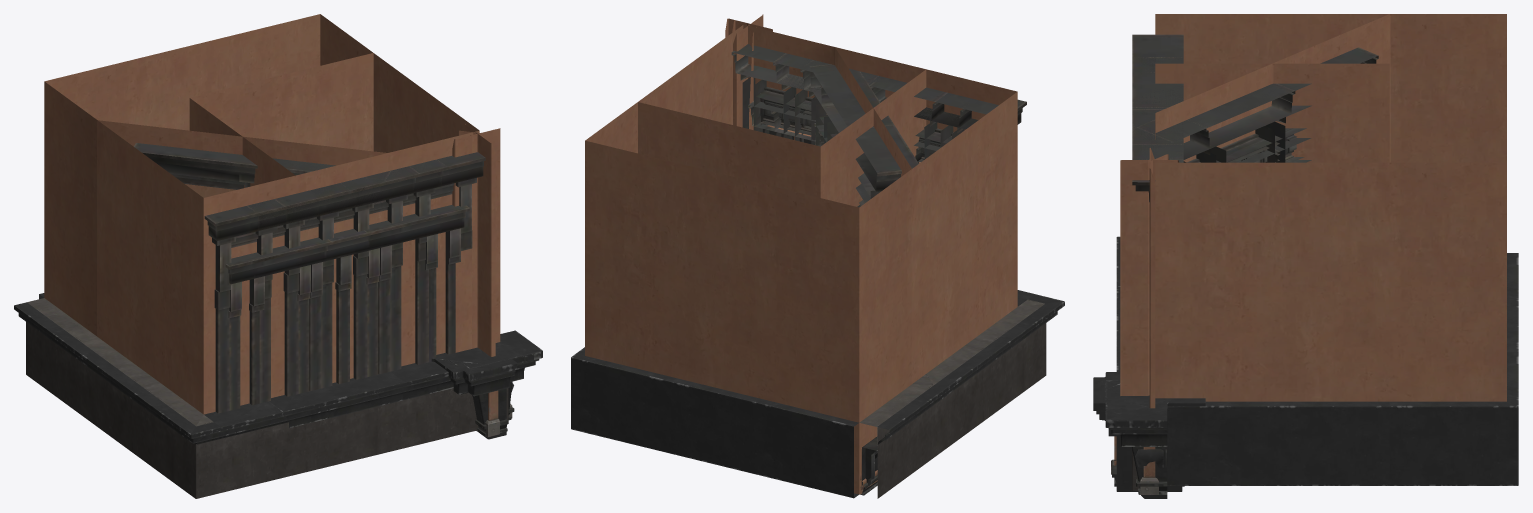
File: flats_kit_lod1.glb
The picture shows the model from 3 angles, left to right: view 1: azimuth 30°, elevation 25°; view 2: azimuth 150°, elevation 25°; view 3: azimuth 270°, elevation 25°; orthographic projection. The views are drawn at different scales.
Visible parts, largest first — view 1: wall_standard_corner_large_01, base_corner_large_01, wall_standard_corner_large_02, wall_door_angled_large_01, wall_standard_corner_small_02, wall_standard_angled_large_01, door_centered_small_01, door_centered_large_01, wall_pier_corner_02, crown_standard_corner_large_01, window_centered_large_02, door_window_small_04 (+38 smaller); view 2: wall_standard_corner_large_02, wall_standard_corner_large_01, crown_standard_corner_large_02, wall_door_angled_large_01, base_corner_large_01, wall_standard_corner_small_02, crown_standard_corner_large_01, wall_standard_angled_large_01, door_angled_large_01, wall_door_angled_small_01, door_centered_large_01, door_angled_small_01 (+17 smaller); view 3: wall_standard_corner_small_02, crown_standard_corner_large_02, wall_standard_corner_large_02, wall_standard_corner_large_01, wall_standard_corner_small_01, wall_pier_corner_02, door_angled_large_01, door_angled_small_01, crown_pier_angled_01, door_offset_small_04, wall_window_angled_large_01, wall_door_angled_large_01 (+11 smaller).
Part boxes in pixels (box(x1,y1,x2,y2)): wall_standard_corner_large_01: box(97, 120, 295, 414); base_corner_large_01: box(26, 299, 476, 498); wall_standard_corner_large_02: box(45, 14, 479, 152); wall_door_angled_large_01: box(44, 81, 385, 335); wall_standard_corner_small_02: box(190, 53, 373, 151); wall_standard_angled_large_01: box(44, 82, 347, 335); door_centered_small_01: box(274, 166, 419, 396); door_centered_large_01: box(247, 159, 447, 403); wall_pier_corner_02: box(452, 134, 495, 356); crown_standard_corner_large_01: box(14, 302, 448, 444); window_centered_large_02: box(249, 214, 446, 405); door_window_small_04: box(204, 183, 469, 412); wall_standard_corner_large_02: box(585, 25, 859, 494); wall_standard_corner_large_01: box(911, 92, 1017, 383); crown_standard_corner_large_02: box(571, 347, 858, 498); wall_door_angled_large_01: box(835, 48, 911, 494); base_corner_large_01: box(866, 299, 1046, 498); wall_standard_corner_small_02: box(638, 102, 820, 197); crown_standard_corner_large_01: box(862, 294, 1064, 495); wall_standard_angled_large_01: box(771, 68, 911, 484); door_angled_large_01: box(820, 84, 918, 205); wall_door_angled_small_01: box(820, 47, 872, 206); door_centered_large_01: box(773, 53, 971, 160); door_angled_small_01: box(810, 64, 894, 145); wall_standard_corner_small_02: box(1155, 162, 1389, 401); crown_standard_corner_large_02: box(1167, 253, 1518, 485); wall_standard_corner_large_02: box(1389, 162, 1506, 401); wall_standard_corner_large_01: box(1155, 14, 1506, 162); wall_standard_corner_small_01: box(1155, 63, 1389, 162); wall_pier_corner_02: box(1120, 148, 1154, 395); door_angled_large_01: box(1187, 47, 1378, 162); door_angled_small_01: box(1137, 83, 1295, 162); crown_pier_angled_01: box(1105, 383, 1171, 498); door_offset_small_04: box(1132, 34, 1183, 107); wall_window_angled_large_01: box(1155, 14, 1390, 162); wall_door_angled_large_01: box(1156, 15, 1388, 161).
Size of the model in its own units: 3.78 by 3.06 by 3.63.
5 materials, 5 textured.
